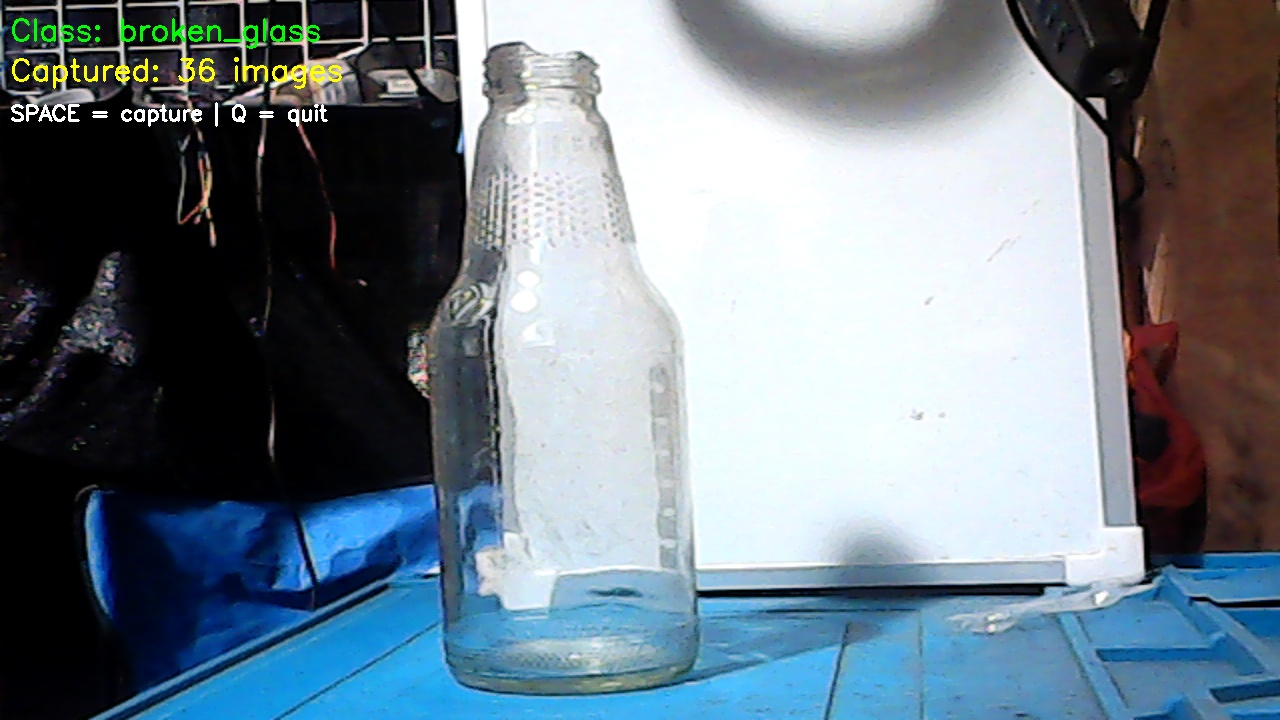broken_glass: (438, 35, 706, 694)
